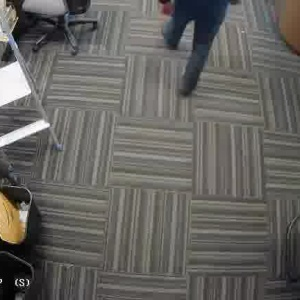person: (169, 0, 228, 96)
